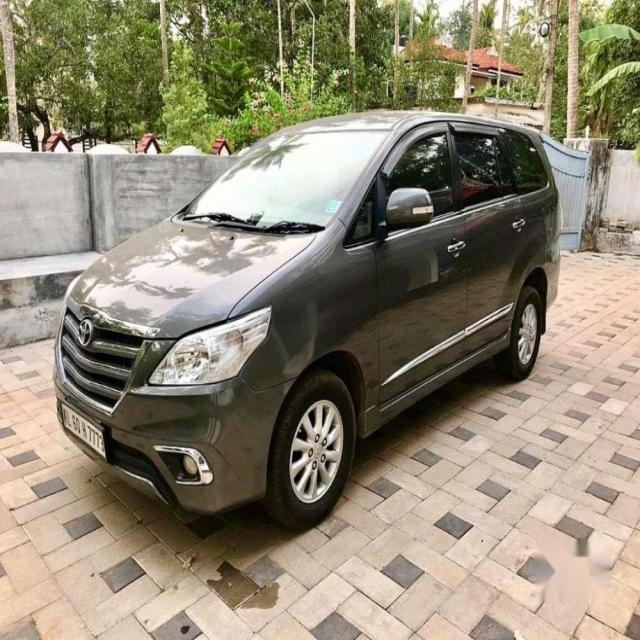light_vehicle: (53, 108, 563, 531)
